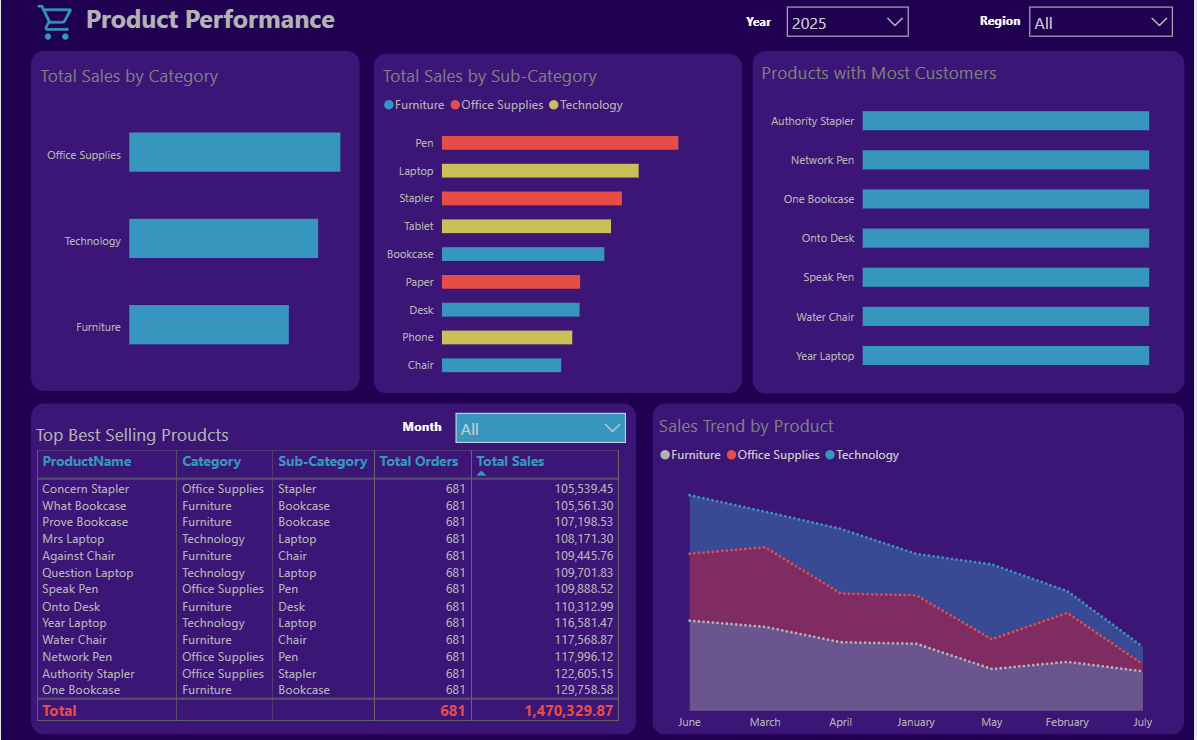

What the dashboard file says about the page in this screenshot:
{"tool":"powerbi","page":{"name":"Product Performance","canvas":[1280,800],"ordinal":2},"visuals":[{"type":"shape","box":[399.3,60.4,395.2,365],"z":0},{"type":"shape","box":[31.6,57.6,352.7,365],"z":1000},{"type":"slicer","fields":{"Values":["Orders.OrderDate.Variation.Date Hierarchy.Year"]},"box":[832.9,0,150.9,49.4],"z":2000},{"type":"shape","box":[31.6,435,649.1,355.4],"z":3000},{"type":"shape","box":[805.5,57.6,463.8,367.8],"z":4000},{"type":"shape","box":[698.5,435,570.8,355.4],"z":5000},{"type":"slicer","fields":{"Values":["Customers.City"]},"box":[1092.3,0,174.3,49.4],"z":6000},{"type":"textbox","box":[1005.8,11,93.3,30.2],"z":7000},{"type":"textbox","box":[779.4,12.3,52.1,30.2],"z":8000},{"type":"textbox","box":[86.4,0,609.3,57.6],"z":9000},{"type":"clusteredBarChart","fields":{"Category":["Products.Category"],"Y":["All Measures.Total Sales"]},"box":[31.6,60.4,352.7,365],"z":10000},{"type":"barChart","title":"Total Sales by Sub-Category","fields":{"Category":["Products.Sub-Category"],"Y":["All Measures.Total Sales"],"Series":["Products.Category"]},"box":[399.3,60.4,395.2,365],"z":11000},{"type":"barChart","title":"Products with Most Customers","fields":{"Category":["Products.ProductName"],"Y":["Count(Orders.CustomerID)"]},"box":[805.5,57.6,463.8,365],"z":12000},{"type":"tableEx","title":"Top Best Selling Proudcts","fields":{"Values":["Products.ProductName","Products.Category","Products.Sub-Category","All Measures.Total Orders","All Measures.Total Sales"]},"box":[31.6,435,649.1,355.4],"z":13000},{"type":"slicer","fields":{"Values":["Orders.OrderDate.Variation.Date Hierarchy.Month"]},"box":[477.5,435,203.1,46.7],"z":14000},{"type":"textbox","box":[399.3,446,78.2,27.4],"z":15000},{"type":"stackedAreaChart","title":"Sales Trend by Product","fields":{"Category":["Orders.OrderDate.Variation.Date Hierarchy.Month"],"Y":["All Measures.Total Sales"],"Series":["Products.Category"]},"box":[695.7,435,570.8,365],"z":16000},{"type":"image","box":[31.6,0,54.9,54.9],"z":17000}]}

Visuals, with their boxes in screenshot pixels (x1, y1, x2, y2), scaled from the page's 1280x800 canvas onto the 1197x740 screenshot:
shape: (373, 56, 743, 393)
shape: (30, 53, 359, 391)
slicer - Orders.OrderDate.Variation.Date Hierarchy.Year: (779, 0, 920, 46)
shape: (30, 402, 637, 731)
shape: (753, 53, 1187, 393)
shape: (653, 402, 1187, 731)
slicer - Customers.City: (1021, 0, 1184, 46)
textbox: (941, 10, 1028, 38)
textbox: (729, 11, 778, 39)
textbox: (81, 0, 651, 53)
clusteredBarChart - Products.Category x All Measures.Total Sales: (30, 56, 359, 393)
"Total Sales by Sub-Category" barChart: (373, 56, 743, 393)
"Products with Most Customers" barChart: (753, 53, 1187, 391)
"Top Best Selling Proudcts" tableEx: (30, 402, 637, 731)
slicer - Orders.OrderDate.Variation.Date Hierarchy.Month: (447, 402, 636, 446)
textbox: (373, 413, 447, 438)
"Sales Trend by Product" stackedAreaChart: (651, 402, 1184, 739)
image: (30, 0, 81, 51)
